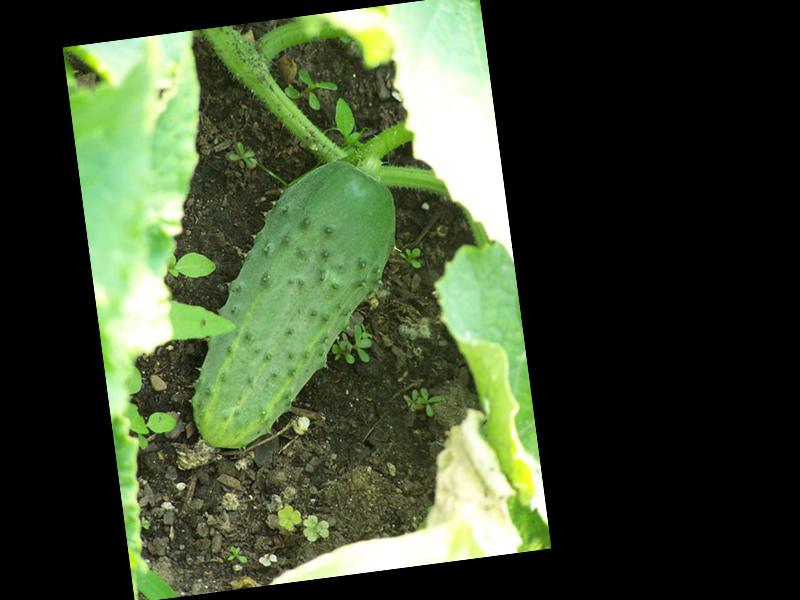Cucumber: (163, 152, 424, 452)
